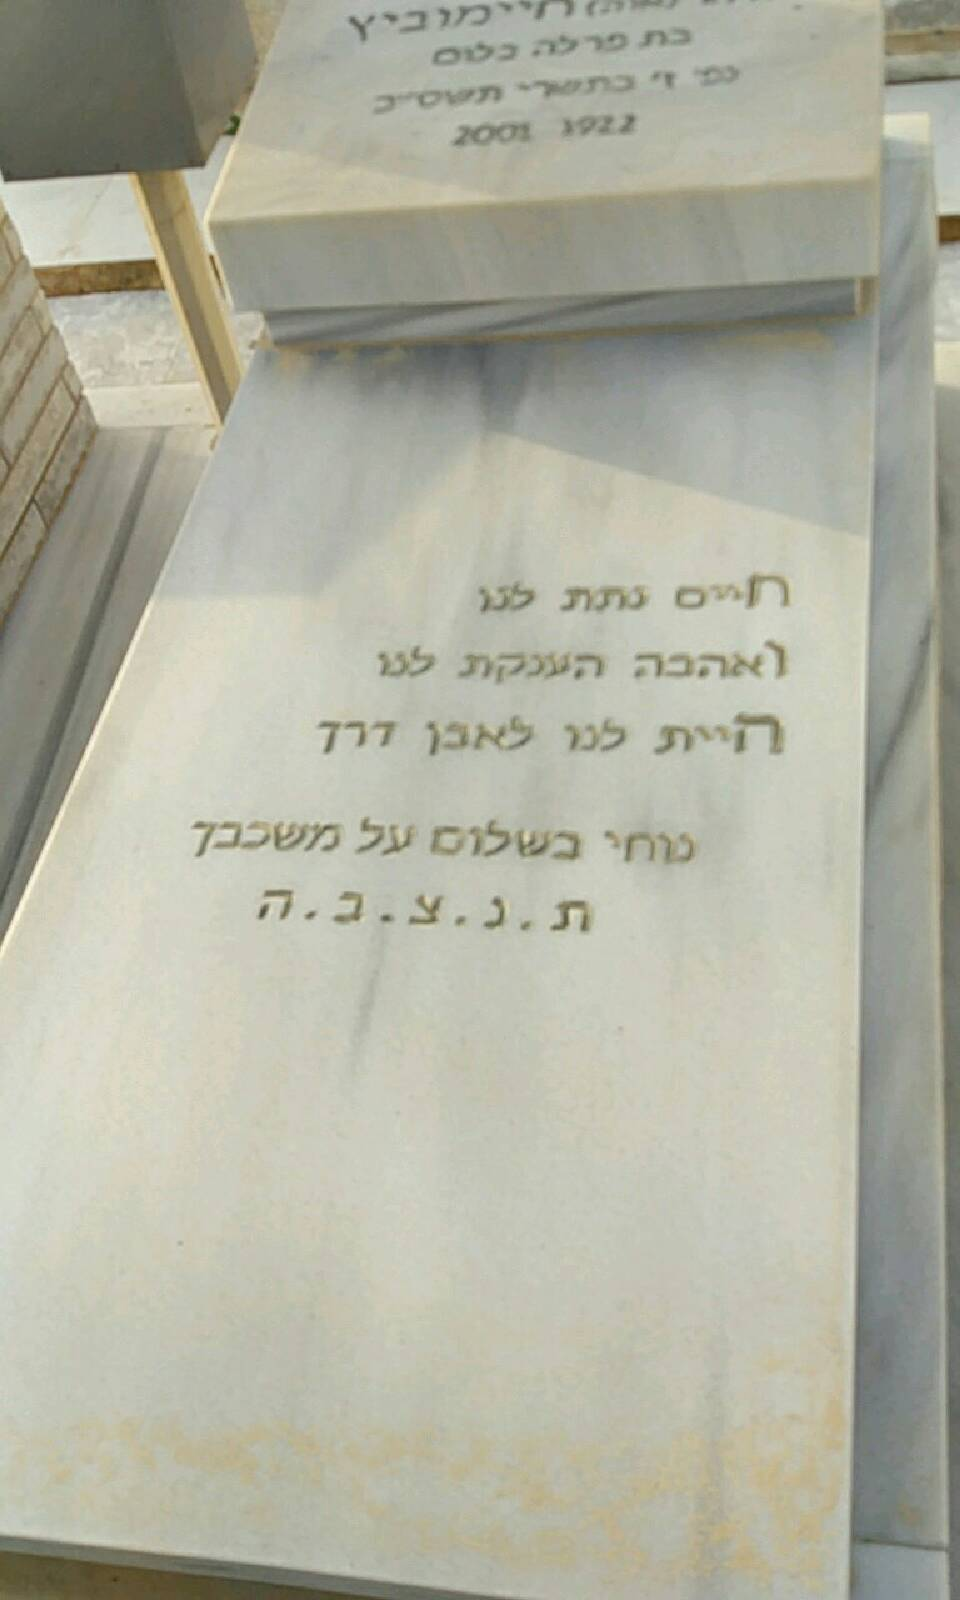vault: (0, 0, 955, 1599)
